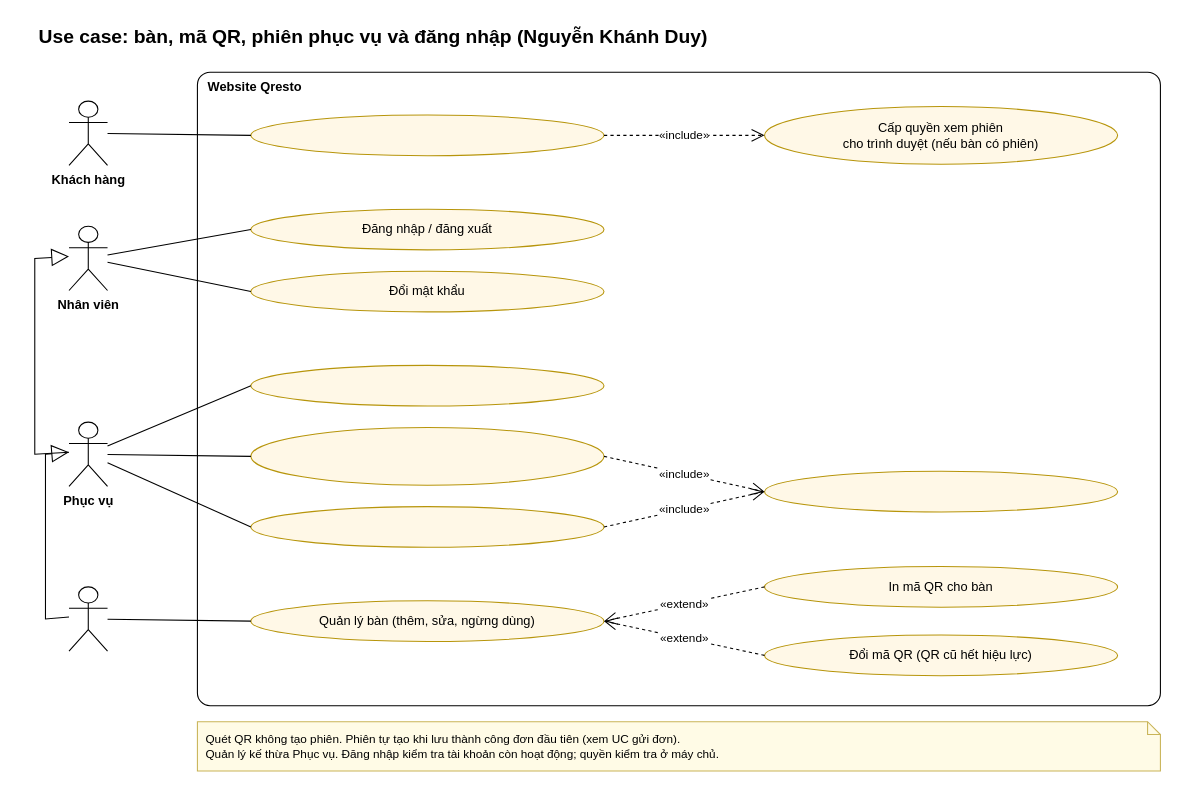
Image size: 1179x790. Some labels were removed from this diagram. Each missing label, with the centre of its shape:
"Cho bàn gọi thêm (Chờ thanh toán -> Đang phục vụ)" belongs at point (427, 455).
"Ghi lý do và lịch sử xử lý" belongs at point (940, 491).
"Hủy phiên không thu tiền" belongs at point (427, 526).
"Quét QR, vào thực đơn của bàn" belongs at point (427, 135).
"Quản lý" belongs at point (88, 618).
"Xem sơ đồ bàn và chi tiết phiên" belongs at point (427, 385).
